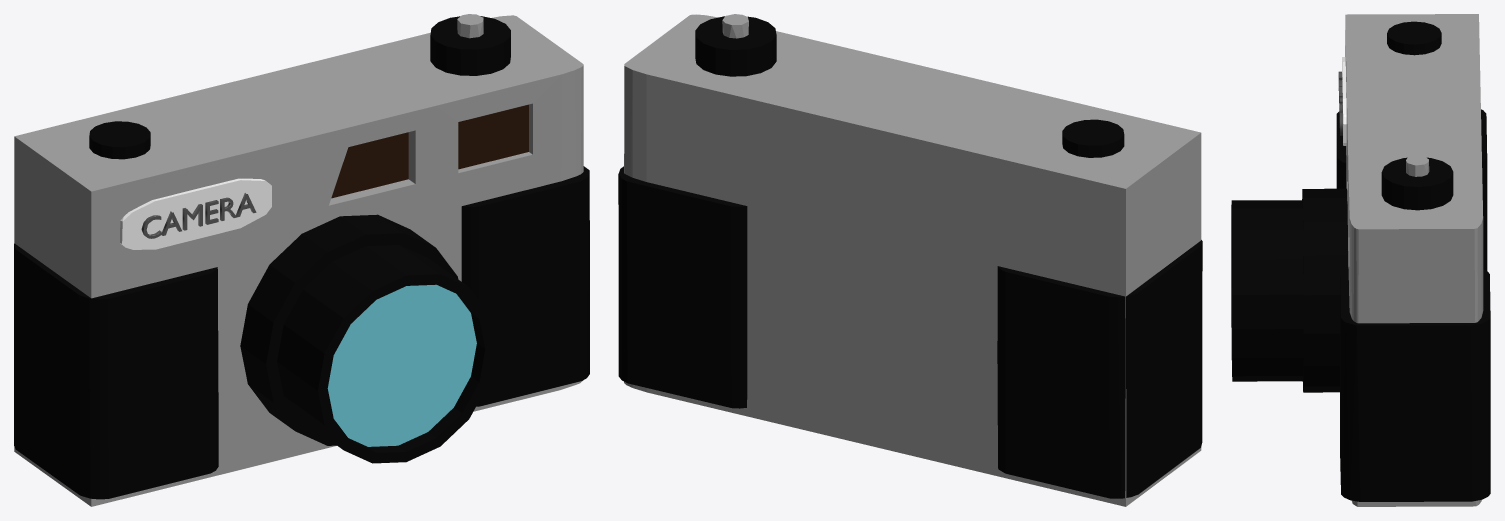
Rendered from camera.fbx.
3 views of the same model, side by side, from view 1: azimuth 30°, elevation 25°; view 2: azimuth 150°, elevation 25°; view 3: azimuth 270°, elevation 25° (orthographic). The views are drawn at different scales.
Visible parts, largest first — view 1: camera; view 2: camera; view 3: camera.
Boxes of the visible parts, left/top/right/bottom form: camera: left=14, top=14, right=589, bottom=506; camera: left=618, top=14, right=1202, bottom=506; camera: left=1231, top=14, right=1490, bottom=506.
Bounding box in the file's own units: 253 × 168 × 126.
